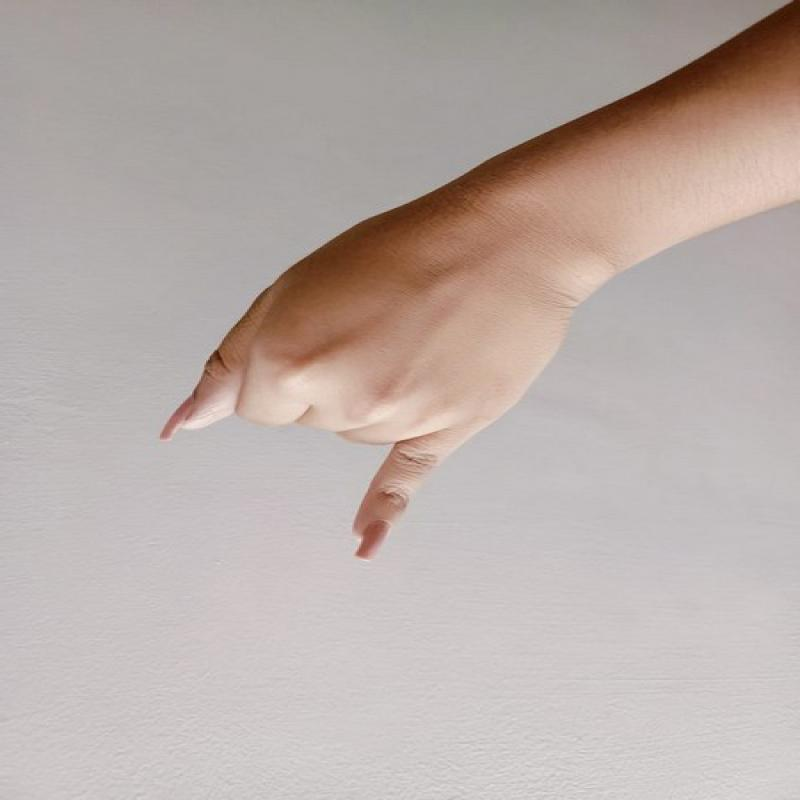Kartharee Mukham: (149, 198, 577, 574)
